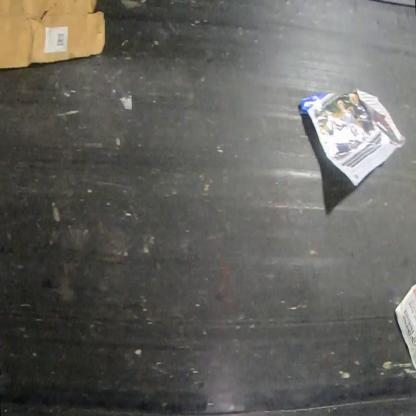cardboard: (0, 0, 105, 69)
